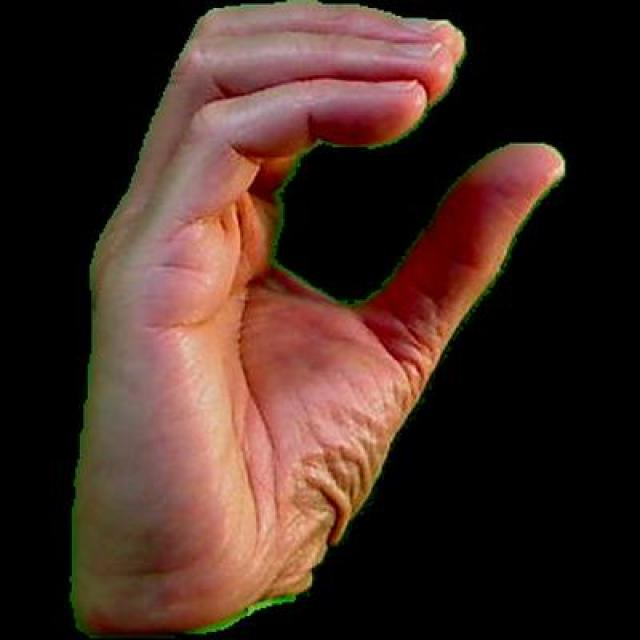c: (48, 0, 587, 637)
